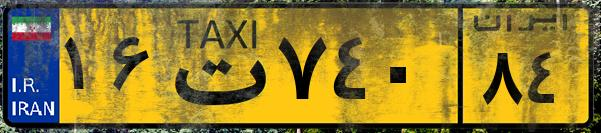0: (385, 28, 445, 110)
1: (57, 26, 110, 100)
4: (330, 28, 385, 110), (525, 38, 570, 115)
6: (110, 28, 158, 98)
7: (270, 28, 330, 110)
8: (475, 38, 525, 113)
ت: (158, 12, 270, 120)
